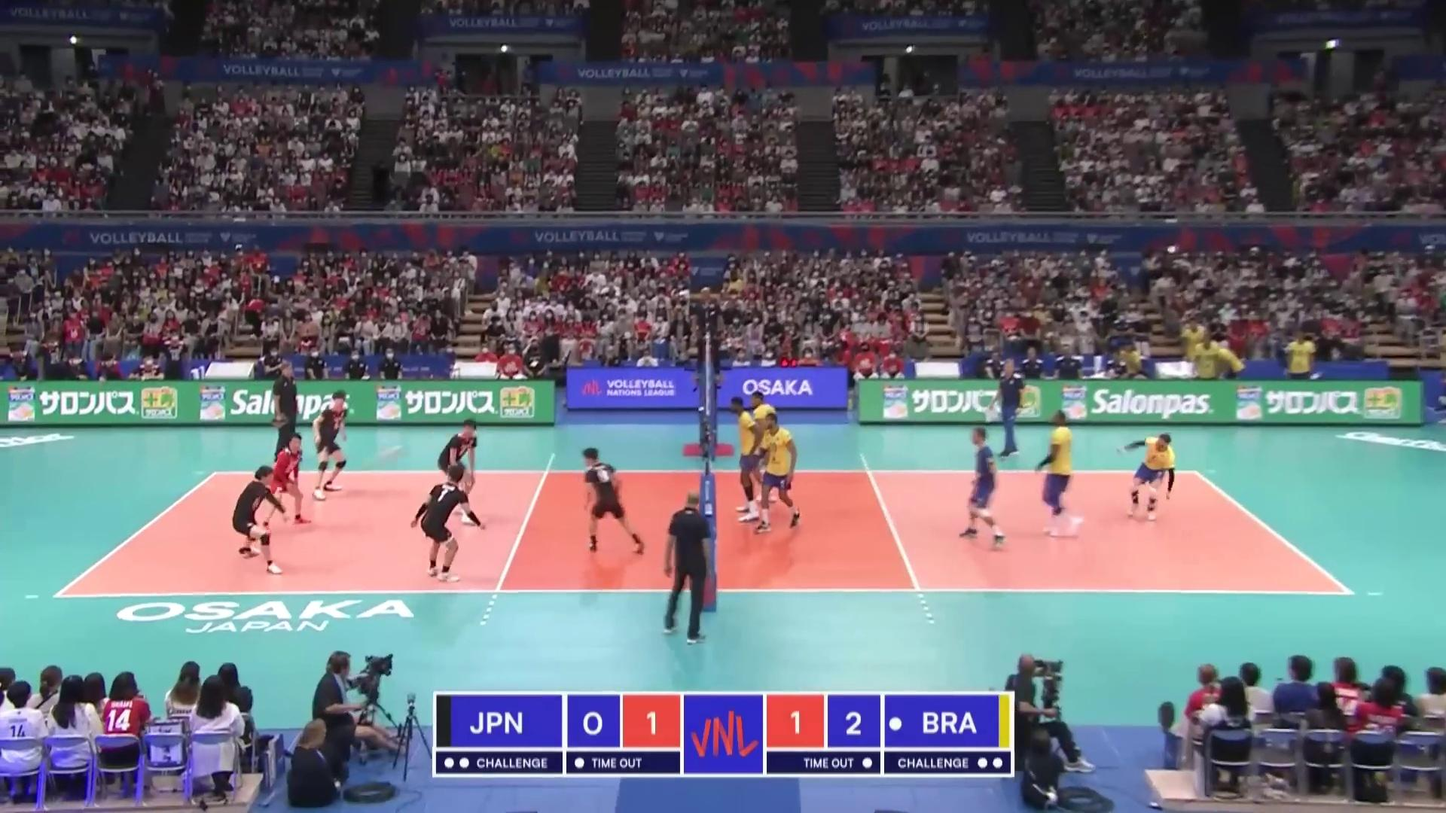player: (411, 467, 480, 583), (580, 448, 646, 554), (957, 428, 1007, 550), (1038, 412, 1084, 540), (233, 466, 284, 576), (1119, 433, 1178, 526), (759, 417, 803, 535), (439, 418, 482, 525), (310, 390, 351, 501), (262, 432, 307, 526), (731, 396, 761, 523), (751, 390, 779, 503)
refree: (662, 490, 714, 640), (688, 287, 725, 389)
